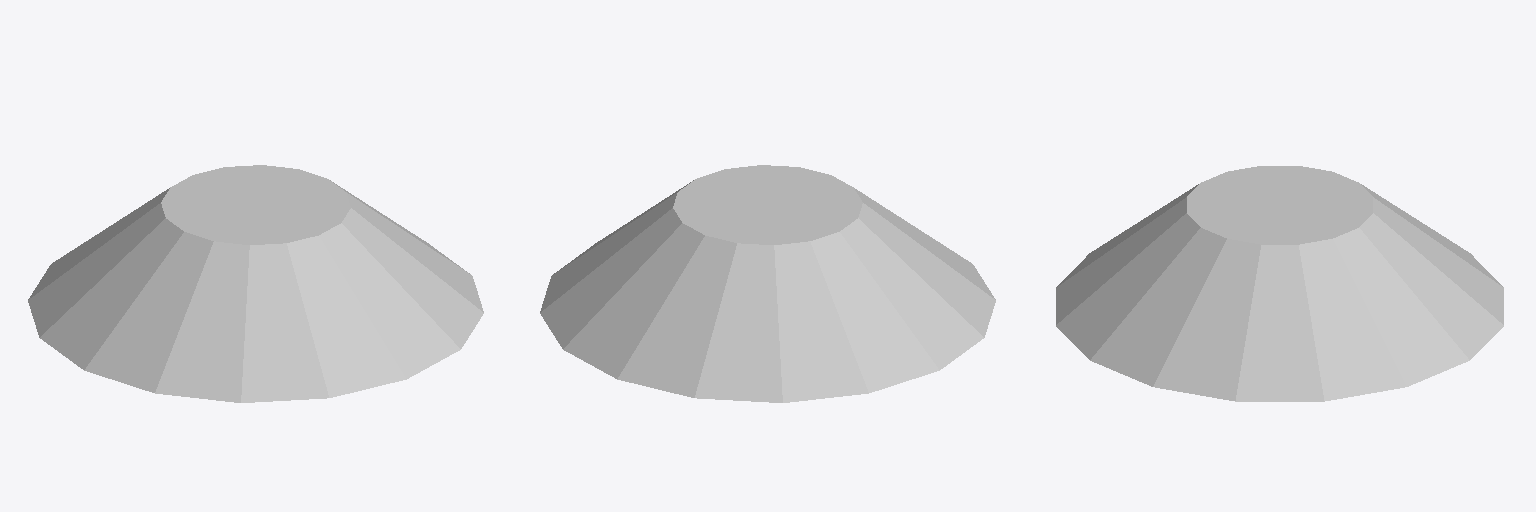
File: s0collider.obj
3 views of the same model, side by side, from view 1: azimuth 30°, elevation 25°; view 2: azimuth 150°, elevation 25°; view 3: azimuth 270°, elevation 25° (orthographic).
Visible parts, largest first — view 1: c; view 2: c; view 3: c.
Boxes of the visible parts, x1,y1,x2,y2 form: c: [28, 165, 483, 402]; c: [540, 165, 995, 402]; c: [1056, 166, 1503, 401].
Size of the model in its own units: 1.5 by 0.375 by 1.5.